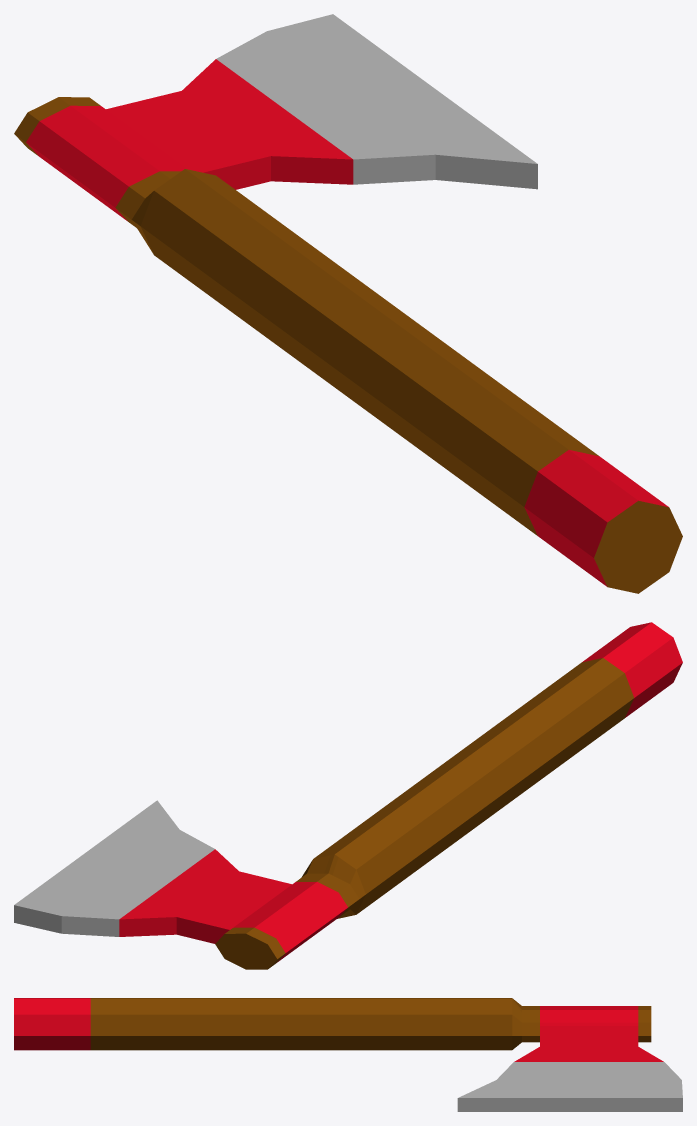
Rendered from hachestatic.fbx.
3 renders of one model, top to bottom at view 1: azimuth 30°, elevation 25°; view 2: azimuth 150°, elevation 25°; view 3: azimuth 270°, elevation 25°, orthographic. The views are drawn at different scales.
Visible parts, largest first — view 1: Cube; view 2: Cube; view 3: Cube.
Part boxes in pixels (box(x1,y1,x2,y2)): Cube: box(14, 14, 682, 593); Cube: box(14, 622, 682, 969); Cube: box(14, 998, 682, 1111).
Bounding box in the file's own units: 175 × 44.8 × 530.
